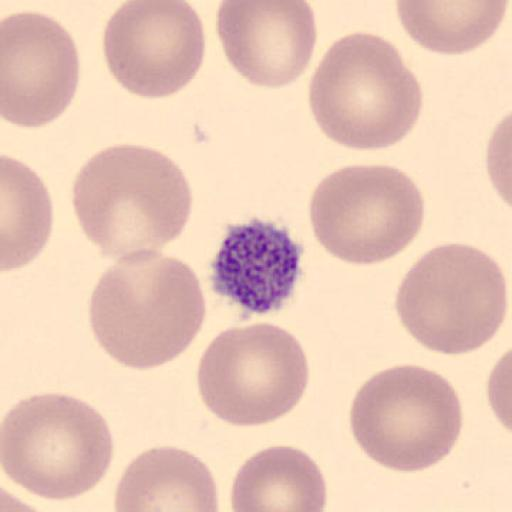Platelet: (206, 214, 309, 319)
RBC: (71, 140, 195, 263), (86, 248, 208, 372), (306, 29, 425, 153), (394, 240, 508, 357), (347, 361, 465, 474), (1, 390, 116, 504), (306, 161, 428, 268), (196, 322, 310, 428), (100, 0, 206, 100), (3, 8, 81, 130), (214, 0, 318, 90), (113, 443, 220, 512), (228, 443, 330, 512), (393, 0, 509, 56), (2, 154, 56, 273), (485, 109, 512, 214), (486, 345, 512, 438), (0, 476, 60, 512), (1, 485, 47, 512)
